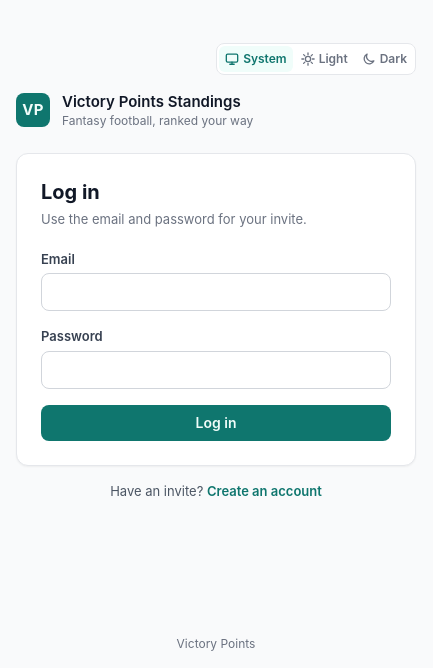
Test: App routing › shows a structured login error and stays on the login page
This screenshot has width=433, height=668.
Expected: the heading "Log in" is shown, x1=41 y1=180 x2=100 y2=204
Type "wrong@example.com" into the field labelled "Email" at (216, 292), box x1=41 y1=273 x2=391 y2=311
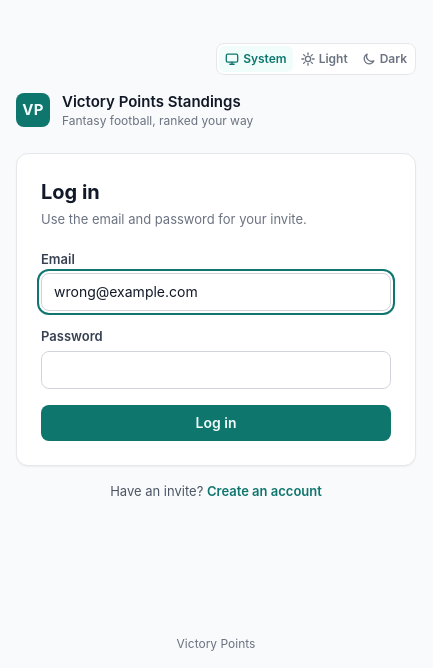
Type "nope" into the password field labelled "Password" at (216, 370), box x1=41 y1=351 x2=391 y2=389
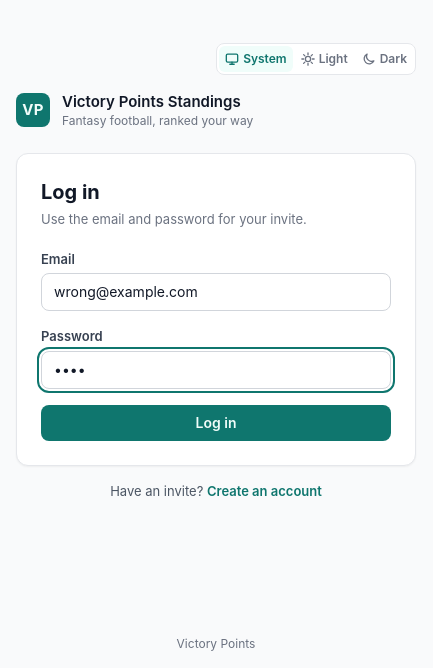
Click the button "Log in" at (216, 423), box x1=41 y1=405 x2=391 y2=441
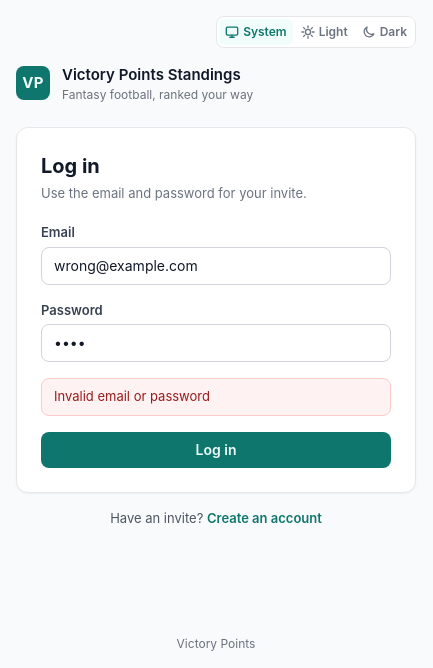
Expected: the heading "Log in" is shown, x1=41 y1=154 x2=100 y2=178
Expected: the message reads "Invalid email or password", x1=54 y1=388 x2=210 y2=404
